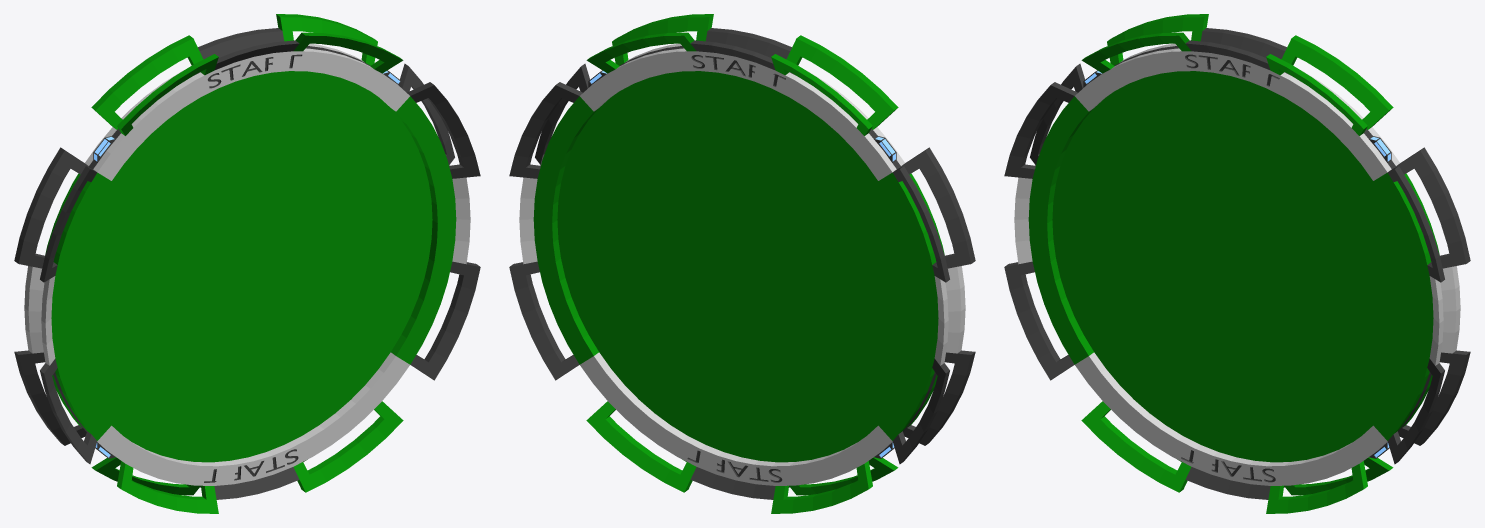
The model's file is Checkpoint_ring_Start.fbx.
The picture shows the model from 3 angles, left to right: view 1: azimuth 30°, elevation 25°; view 2: azimuth 150°, elevation 25°; view 3: azimuth 330°, elevation 25°; orthographic projection.
Parts seen in each view (by area): view 1: Semi-transparent checkpoint inside, Checkpoint Ring; view 2: Semi-transparent checkpoint inside, Checkpoint Ring; view 3: Semi-transparent checkpoint inside, Checkpoint Ring.
Part boxes in pixels (x1,y1,x2,y2): Semi-transparent checkpoint inside: (70, 71, 432, 462); Checkpoint Ring: (14, 14, 480, 513); Semi-transparent checkpoint inside: (557, 71, 919, 462); Checkpoint Ring: (509, 14, 975, 513); Semi-transparent checkpoint inside: (1052, 71, 1414, 462); Checkpoint Ring: (1004, 14, 1470, 513).
Bounding box in the file's own units: 5934 × 5934 × 700.
